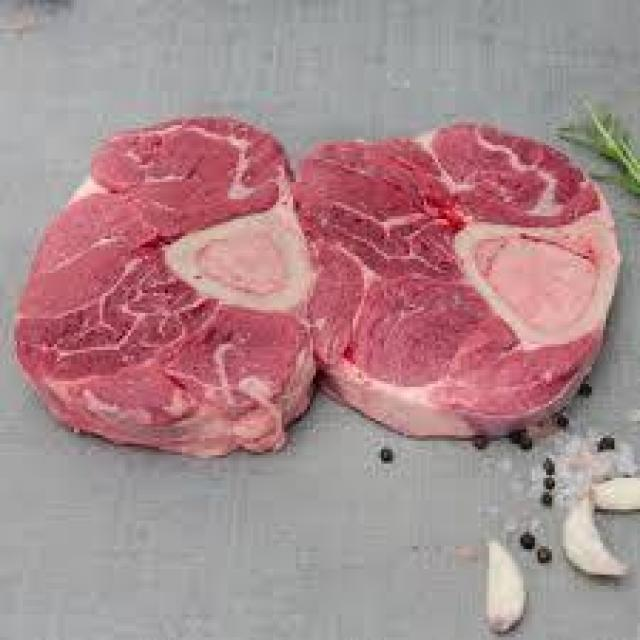Beef: (6, 110, 308, 471)
